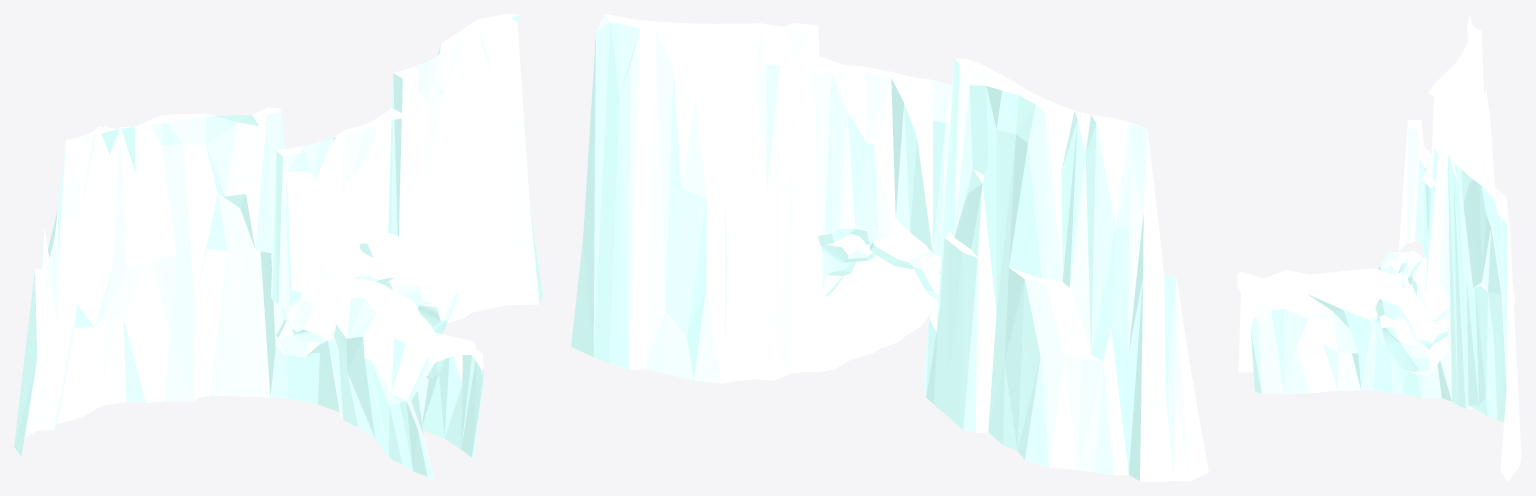
The model's file is iceStageOut3.fbx.
The picture shows the model from 3 angles, left to right: view 1: azimuth 30°, elevation 25°; view 2: azimuth 150°, elevation 25°; view 3: azimuth 270°, elevation 25°; orthographic projection. The views are drawn at different scales.
Parts seen in each view (by area): view 1: Cave2__1_; view 2: Cave2__1_; view 3: Cave2__1_.
Part boxes in pixels (<box>): Cave2__1_: <box>14,14,542,481</box>; Cave2__1_: <box>571,14,1208,481</box>; Cave2__1_: <box>1237,14,1521,481</box>.
Size of the model in its own units: 39485 by 20894 by 20686.
